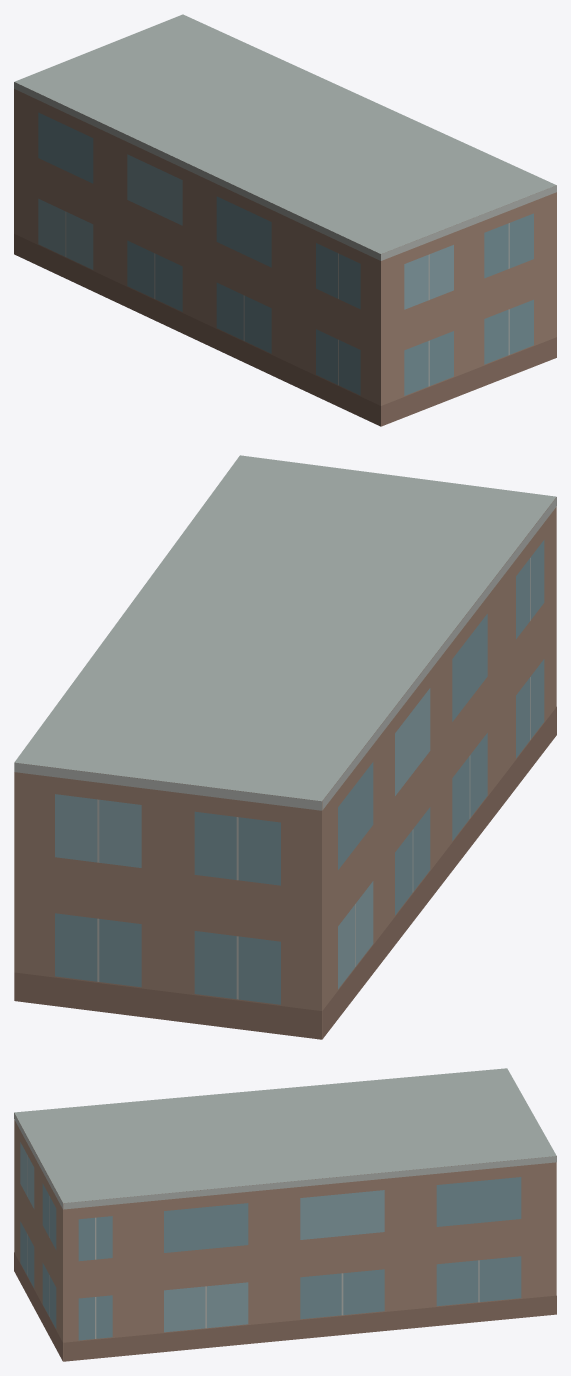
File: survey-upis-32699682.glb
The picture shows the model from 3 angles, top to bottom: view 1: azimuth 30°, elevation 25°; view 2: azimuth 150°, elevation 25°; view 3: azimuth 270°, elevation 25°; orthographic projection. The views are drawn at different scales.
Parts seen in each view (by area): view 1: survey-upis-32699682.tmp; view 2: survey-upis-32699682.tmp; view 3: survey-upis-32699682.tmp.
Boxes of the visible parts, bbox=[...] form: survey-upis-32699682.tmp: bbox=[14, 14, 556, 426]; survey-upis-32699682.tmp: bbox=[14, 455, 556, 1039]; survey-upis-32699682.tmp: bbox=[14, 1068, 556, 1361].
Bounding box in the file's own units: 11.16 × 6.1 × 18.94.
